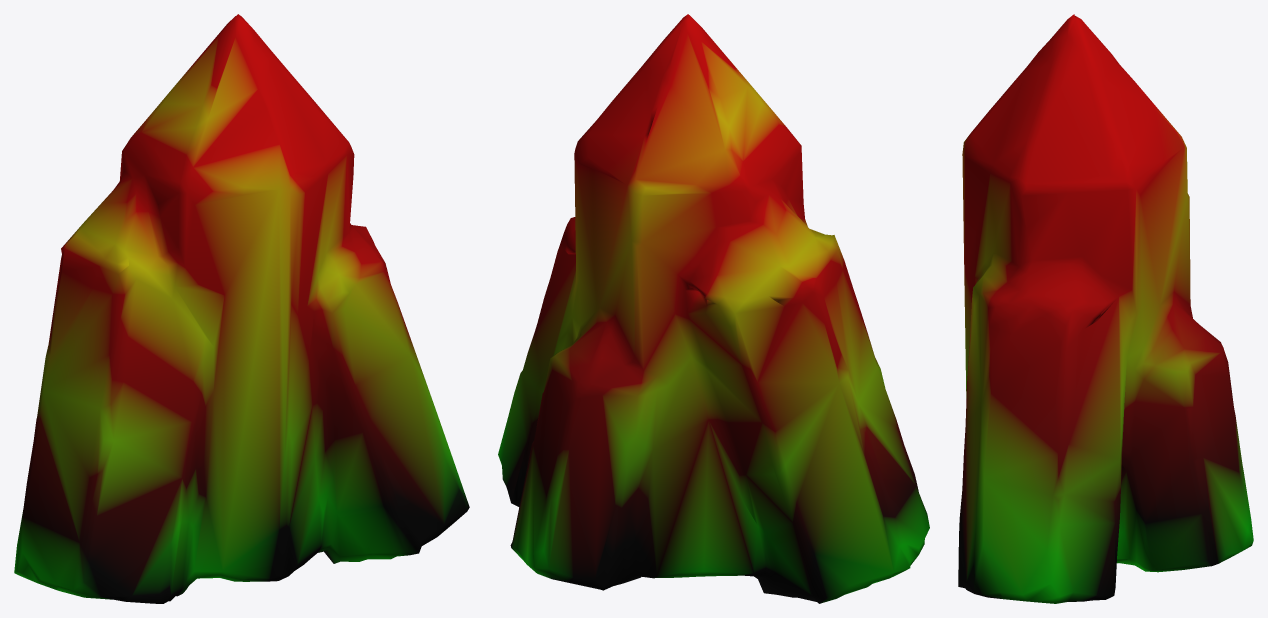
Rendered from bg-frost-b.glb.
The picture shows the model from 3 angles, left to right: view 1: azimuth 30°, elevation 25°; view 2: azimuth 150°, elevation 25°; view 3: azimuth 270°, elevation 25°; orthographic projection. The views are drawn at different scales.
Parts seen in each view (by area): view 1: crystals; view 2: crystals; view 3: crystals.
Part boxes in pixels (left/top/right/bottom): crystals: left=14, top=14, right=469, bottom=603; crystals: left=498, top=14, right=929, bottom=603; crystals: left=958, top=14, right=1253, bottom=603.
Bounding box in the file's own units: 3.13 × 3.84 × 1.92.
